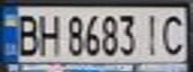3: (118, 11, 142, 56)
6: (81, 11, 103, 57)
8: (100, 11, 121, 57), (63, 11, 84, 56)
B: (9, 10, 42, 57)
C: (157, 11, 190, 56)
H: (33, 10, 63, 57)
I: (139, 10, 166, 56)
